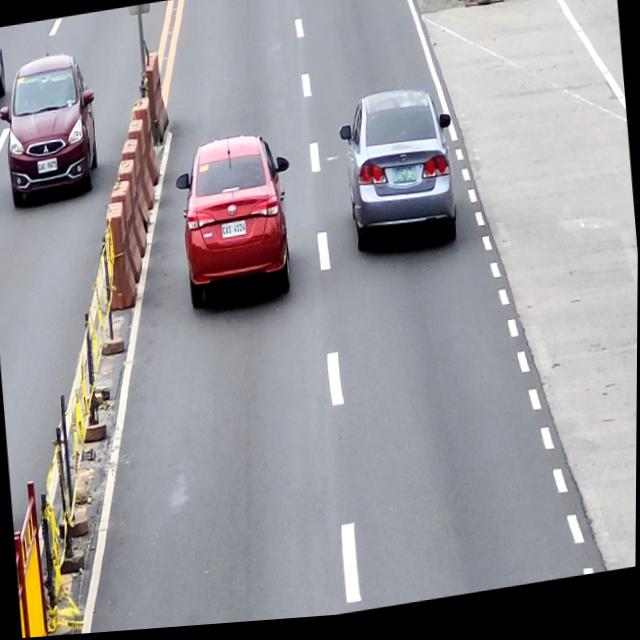Car: (172, 131, 301, 314), (338, 88, 462, 265)
License-Plate: (220, 222, 247, 243), (392, 170, 417, 192)
